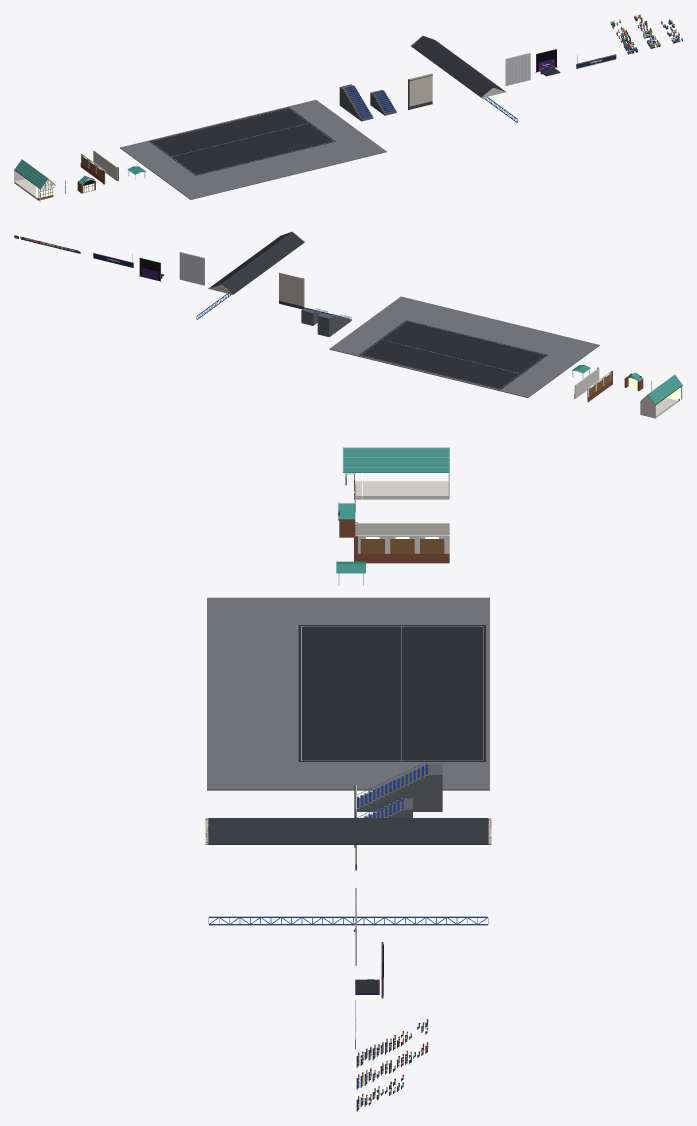
File: NationalsArena_03.glb
The picture shows the model from 3 angles, top to bottom: view 1: azimuth 30°, elevation 25°; view 2: azimuth 150°, elevation 25°; view 3: azimuth 270°, elevation 25°; orthographic projection. The views are drawn at different scales.
Visible parts, largest first — view 1: NatFloor_Concrete, NatFloor_Rubber, NatRoofBay_Plates, NatDrape_Cloth, NatWall_Wall, NatStandMain_Steps, NatBay_Roof, NatStandEnd_Steps, NatEndRight_Wall, NatBay_Walls; view 2: NatFloor_Concrete, NatFloor_Rubber, NatRoofBay_Plates, NatDrape_Cloth, NatWall_Wall, NatStandMain_Steps, NatBay_Walls, NatBay_Roof, NatEndRight_Wall; view 3: NatFloor_Concrete, NatFloor_Rubber, NatRoofBay_Plates, NatBay_Roof, NatStandMain_Steps, NatBay_Walls, NatTruss_Steel, NatEndLeft_Wall, NatEndRight_Wood, NatEndRight_Brick.
Part boxes in pixels (x1=…): NatFloor_Concrete: x1=120, y1=100, x2=386, y2=199; NatFloor_Rubber: x1=149, y1=107, x2=335, y2=175; NatRoofBay_Plates: x1=411, y1=36, x2=505, y2=98; NatDrape_Cloth: x1=505, y1=53, x2=530, y2=85; NatWall_Wall: x1=408, y1=73, x2=432, y2=106; NatStandMain_Steps: x1=339, y1=84, x2=373, y2=121; NatBay_Roof: x1=14, y1=159, x2=55, y2=188; NatStandEnd_Steps: x1=370, y1=90, x2=396, y2=115; NatEndRight_Wall: x1=93, y1=150, x2=117, y2=180; NatBay_Walls: x1=14, y1=170, x2=38, y2=199; NatFloor_Concrete: x1=329, y1=296, x2=599, y2=397; NatFloor_Rubber: x1=359, y1=320, x2=547, y2=389; NatRoofBay_Plates: x1=208, y1=232, x2=304, y2=294; NatDrape_Cloth: x1=179, y1=252, x2=204, y2=285; NatWall_Wall: x1=279, y1=272, x2=303, y2=306; NatStandMain_Steps: x1=317, y1=313, x2=351, y2=337; NatBay_Walls: x1=640, y1=395, x2=679, y2=418; NatBay_Roof: x1=641, y1=375, x2=682, y2=404; NatEndRight_Wall: x1=574, y1=368, x2=599, y2=398; NatFloor_Concrete: x1=207, y1=597, x2=489, y2=790; NatFloor_Rubber: x1=298, y1=625, x2=485, y2=761; NatRoofBay_Plates: x1=205, y1=818, x2=491, y2=844; NatBay_Roof: x1=343, y1=448, x2=449, y2=472; NatStandMain_Steps: x1=357, y1=763, x2=442, y2=811; NatBay_Walls: x1=356, y1=472, x2=449, y2=499; NatTruss_Steel: x1=208, y1=916, x2=488, y2=925; NatEndLeft_Wall: x1=355, y1=523, x2=449, y2=535; NatEndRight_Wood: x1=360, y1=539, x2=444, y2=553; NatEndRight_Brick: x1=354, y1=536, x2=449, y2=563.
Bounding box in the file's own units: 1106 × 68.4 × 212.
